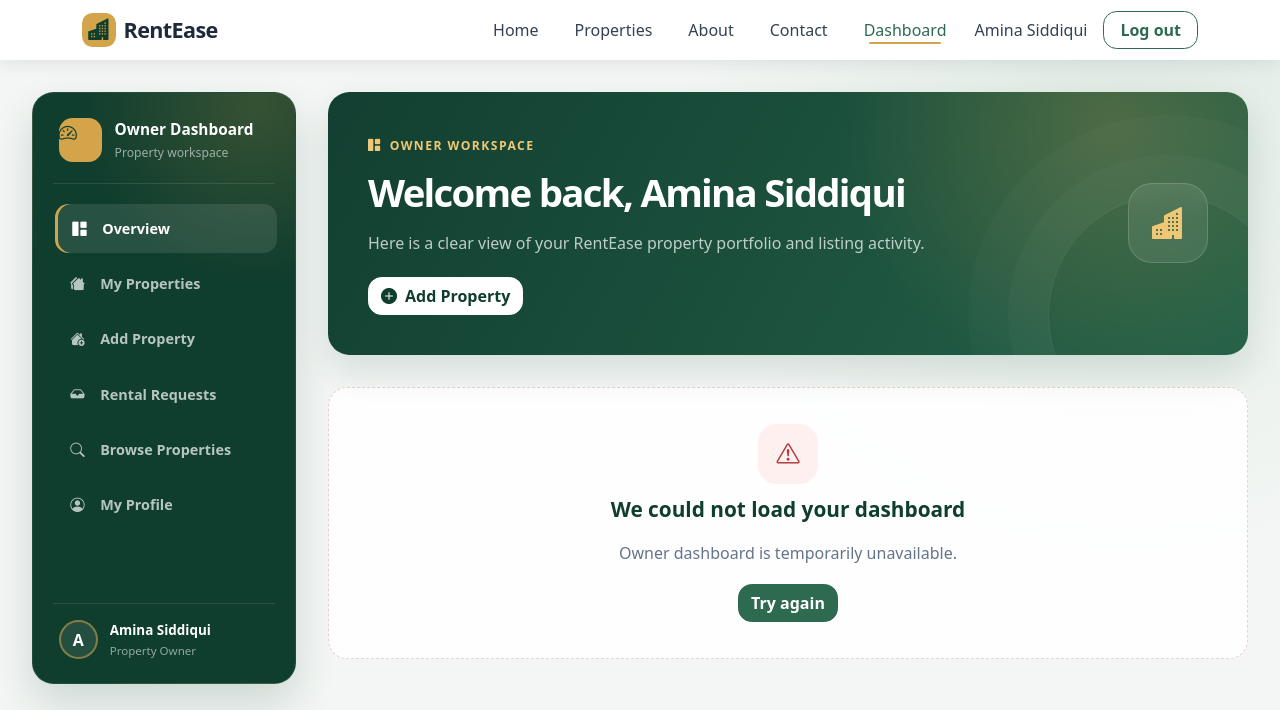
Test: Owner dashboard page › shows an API error and can retry the dashboard request
Expected: the text "Owner dashboard is temporarily unavailable." is shown, x1=619 y1=540 x2=957 y2=566
Click the button "Try again" at (788, 603), box x1=738 y1=584 x2=838 y2=622
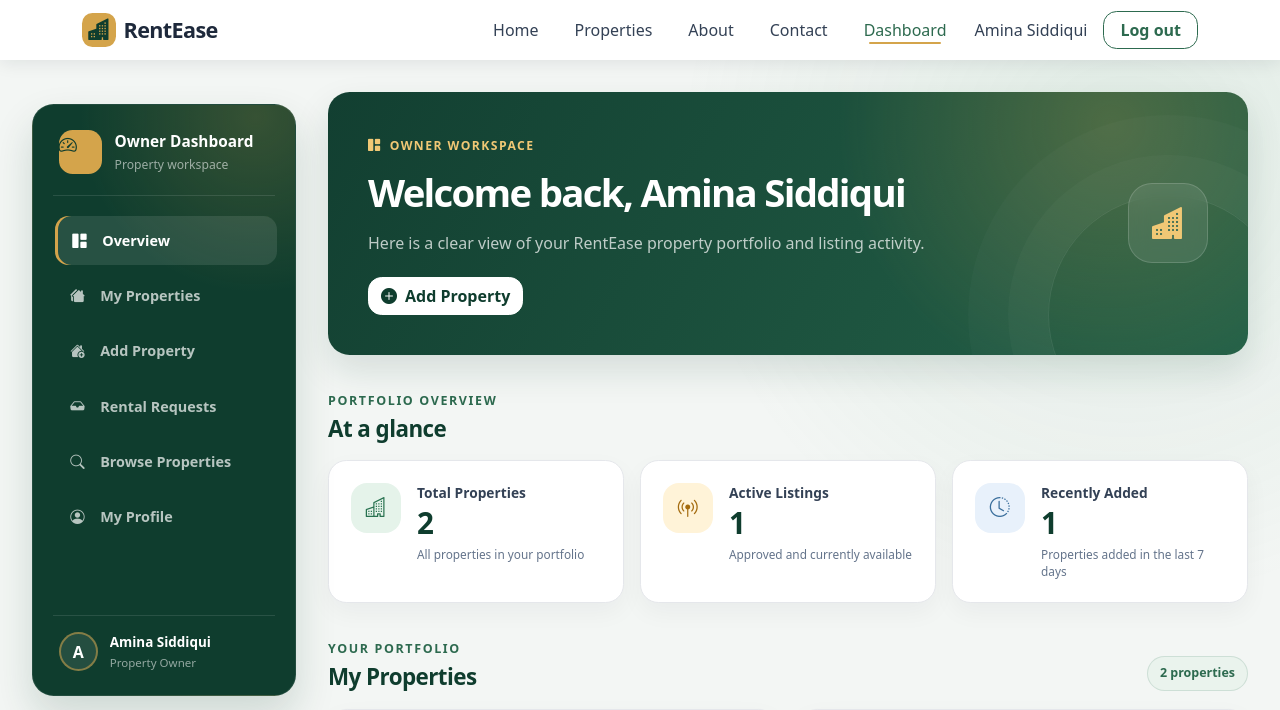
Now the heading "My Properties" is shown, box x1=328 y1=664 x2=476 y2=691
